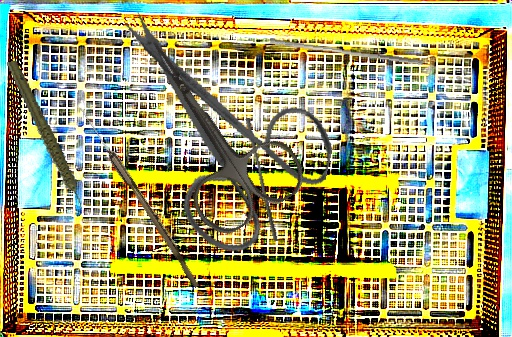Handpiece: (4, 52, 86, 222)
Iris Scissors: (79, 8, 353, 269), (105, 6, 313, 244)
Pusher: (241, 117, 283, 242), (268, 37, 425, 66)
Surgical Spoon: (75, 105, 204, 289)
